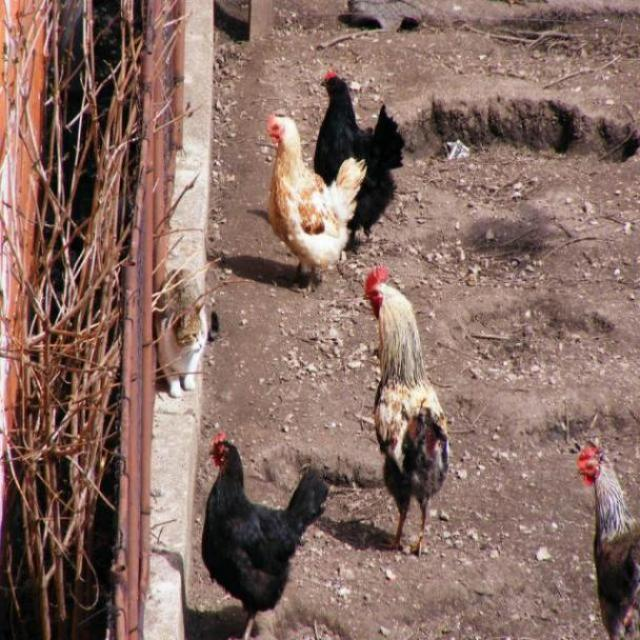Chicken: (198, 433, 327, 640), (366, 263, 453, 549), (268, 113, 367, 298), (313, 70, 405, 256), (577, 445, 640, 640)
